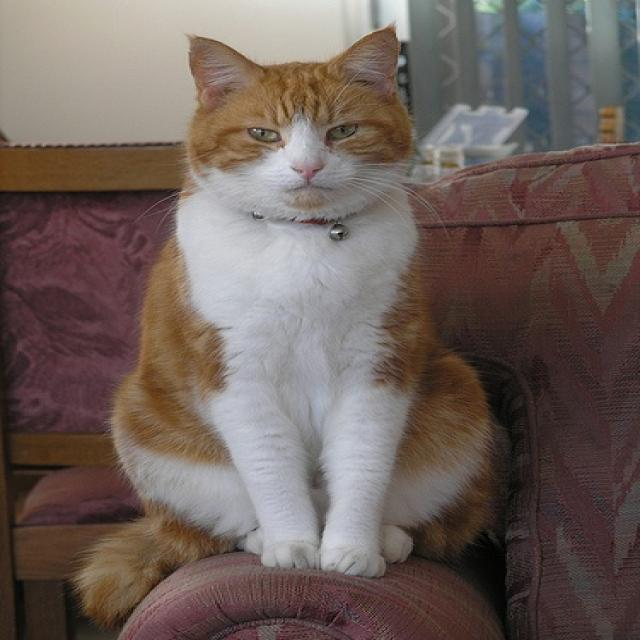cat: (72, 20, 510, 632)
